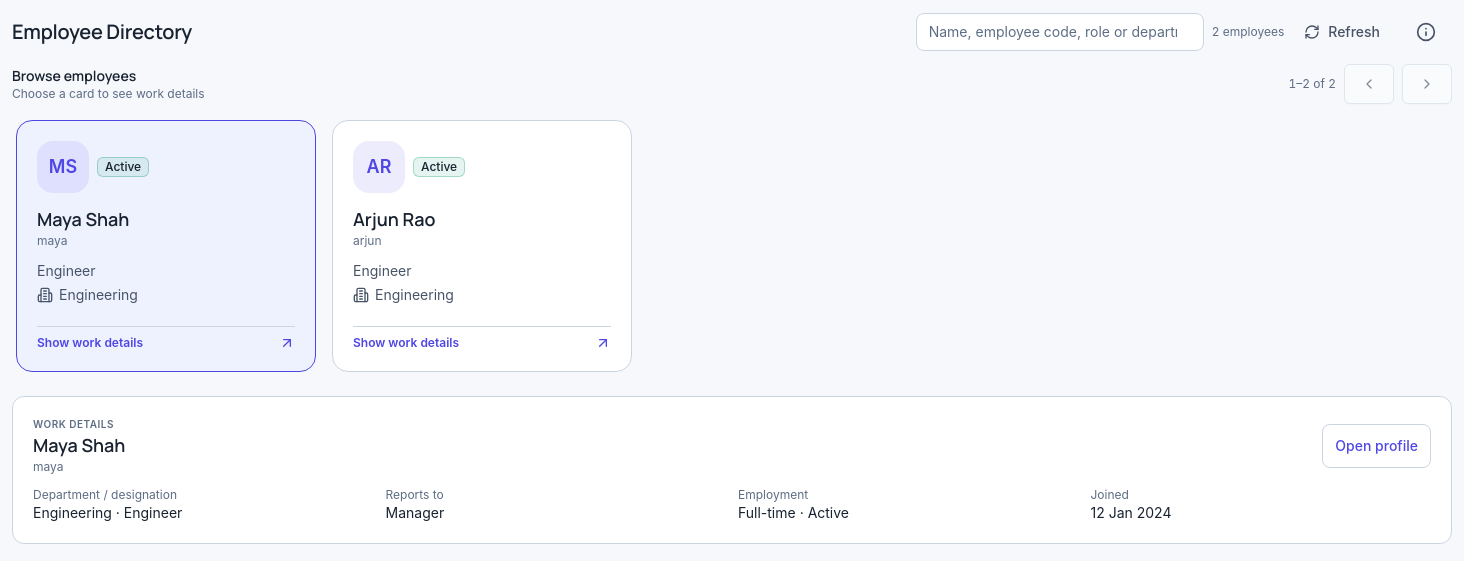
Test case: loads every directory page and keeps search when selecting an employee
Expected: the button with aria-label "Show work details for Arjun Rao (arjun)" is shown, [332,120,632,372]
Type "Engineering" into the search field named "Search employees" at (1060, 32), box [916,13,1204,51]
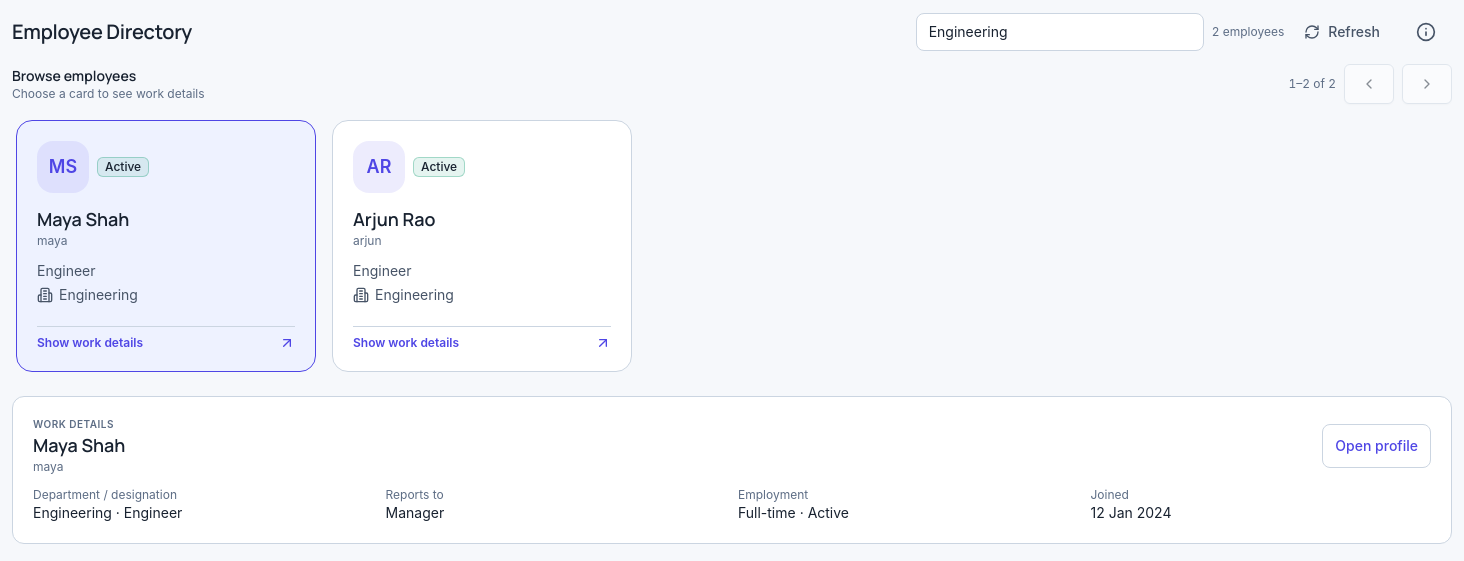
Click the button with aria-label "Show work details for Arjun Rao (arjun)" at (379, 167), box [332,120,632,372]
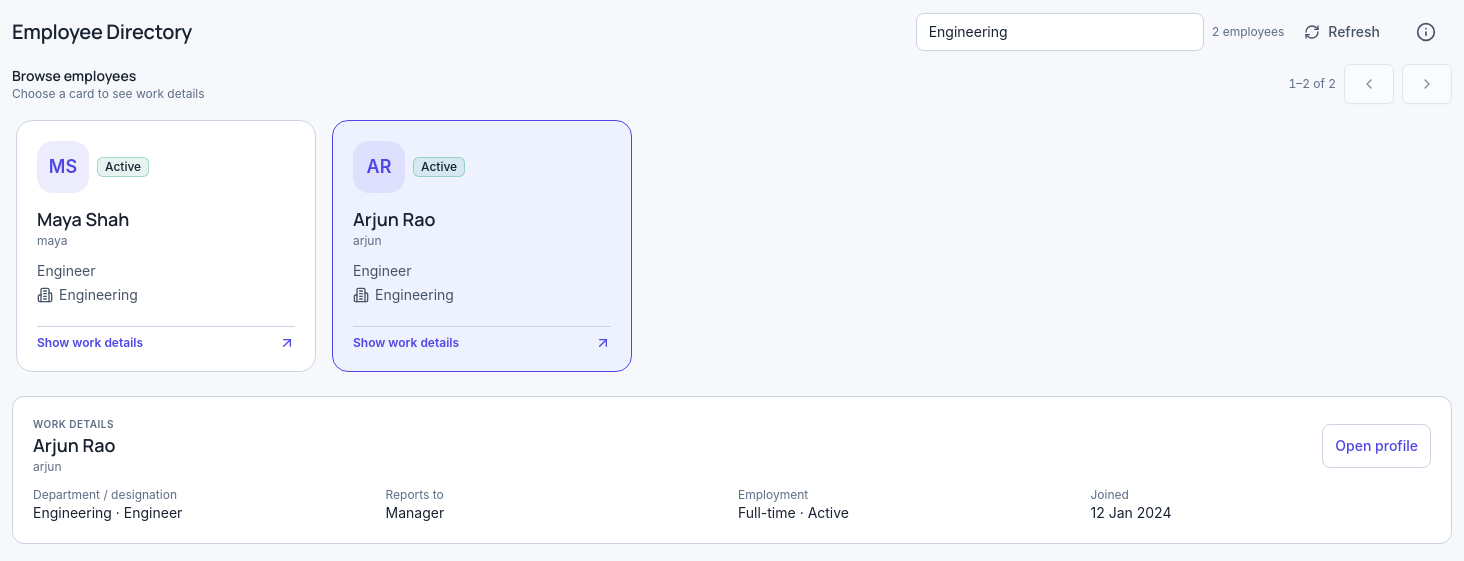
Expected: the element named "Work details for Arjun Rao" is shown, [12,396,1452,544]
